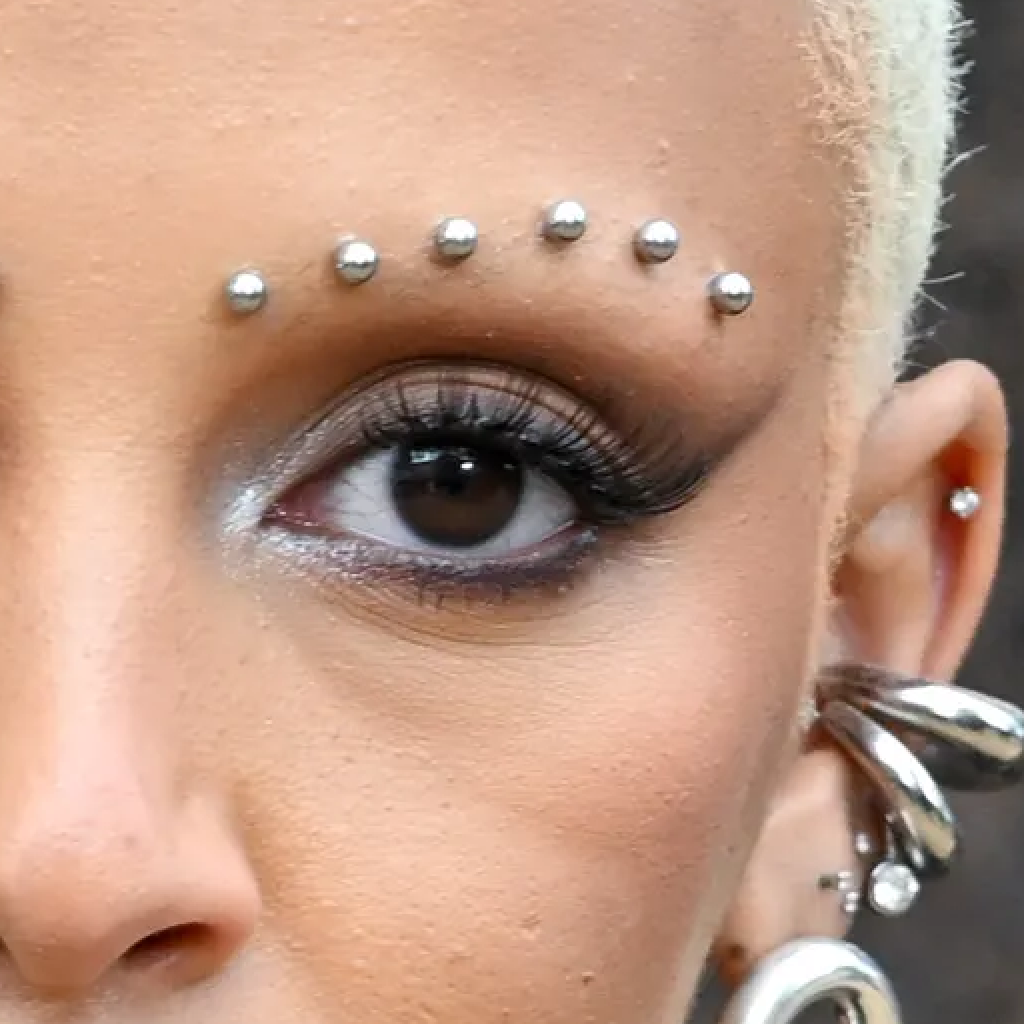iris: (394, 430, 522, 547)
pupil: (430, 455, 478, 501)
sclera: (276, 439, 588, 561)
